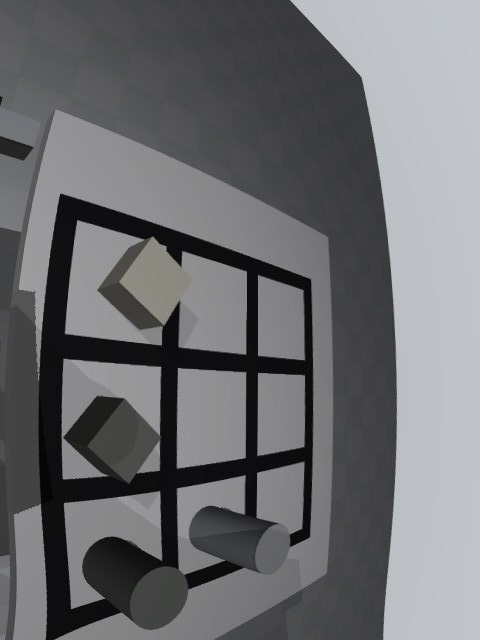can: (189, 506, 290, 575)
cube: (64, 396, 161, 483)
cylinder: (82, 537, 189, 630)
foam: (97, 237, 192, 330)
